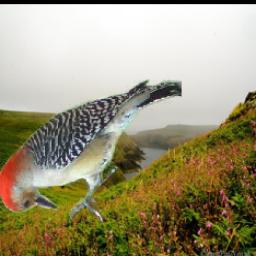Woodpecker: (0, 76, 183, 224)
